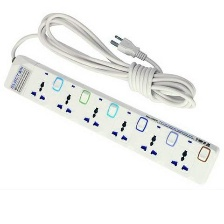three_eye_plug: (1, 51, 221, 187)
